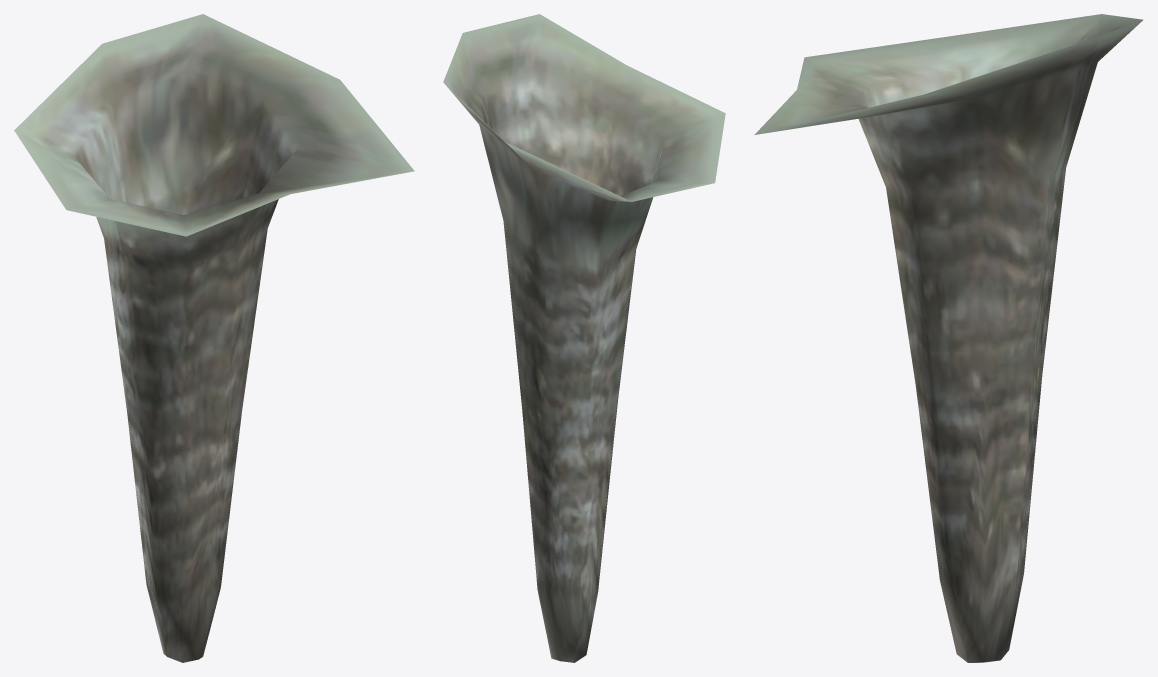
Rendered from TROLLHOLE02_PS-MAINSTALAG81.fbx.
3 renders of one model, left to right at view 1: azimuth 30°, elevation 25°; view 2: azimuth 150°, elevation 25°; view 3: azimuth 270°, elevation 25°, orthographic. The views are drawn at different scales.
Visible parts, largest first — view 1: TROLLHOLE02_PS-MAINSTALAG81; view 2: TROLLHOLE02_PS-MAINSTALAG81; view 3: TROLLHOLE02_PS-MAINSTALAG81.
Part boxes in pixels (x1=…): TROLLHOLE02_PS-MAINSTALAG81: x1=14, y1=14, x2=414, y2=662; TROLLHOLE02_PS-MAINSTALAG81: x1=443, y1=14, x2=725, y2=662; TROLLHOLE02_PS-MAINSTALAG81: x1=754, y1=14, x2=1143, y2=662.
Size of the model in its own units: 17720 by 38342 by 20341.
Materials: 1 (1 with a texture image).
